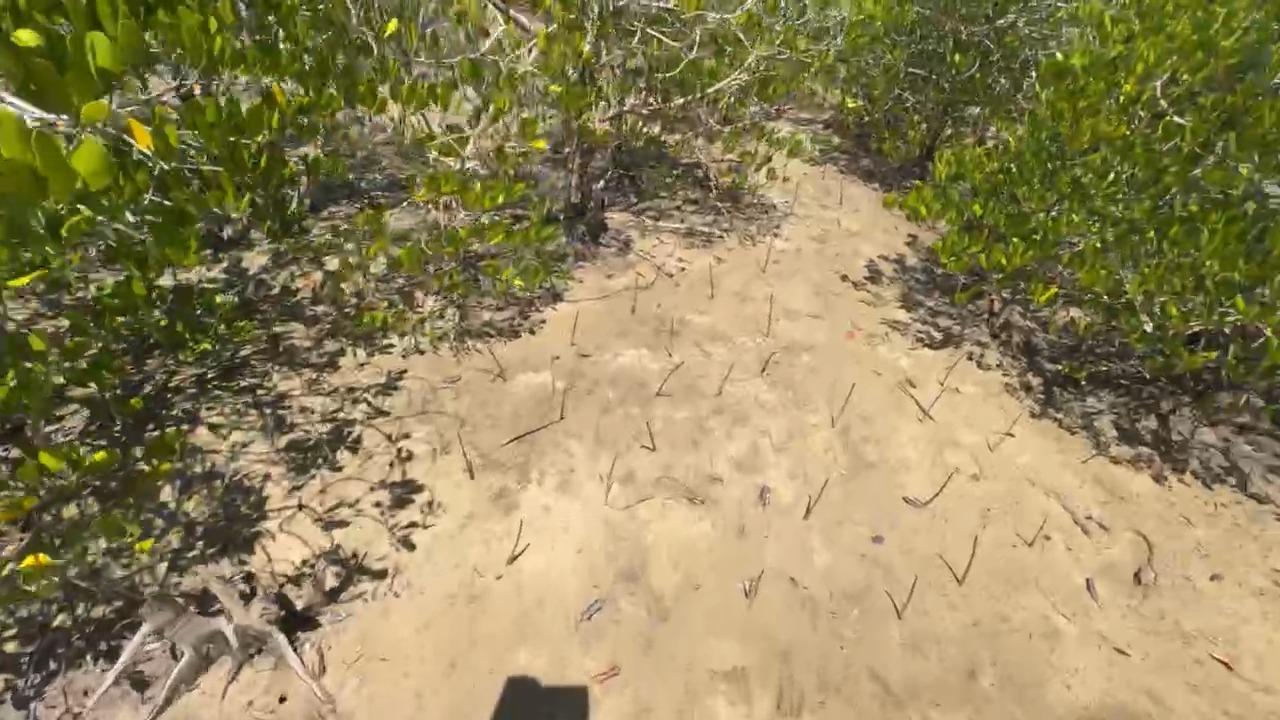Tree: (832, 382, 857, 428), (654, 361, 684, 397), (924, 471, 955, 505), (958, 536, 978, 586), (941, 352, 968, 386), (457, 431, 475, 481), (505, 518, 522, 568), (899, 575, 918, 617), (487, 345, 508, 382), (809, 478, 829, 511), (604, 456, 617, 506), (716, 362, 734, 397), (1028, 517, 1047, 547), (926, 387, 947, 413), (765, 292, 774, 338), (760, 352, 778, 375), (762, 240, 773, 274), (570, 310, 580, 346), (631, 276, 639, 316), (646, 420, 656, 451), (1007, 413, 1023, 432), (560, 383, 568, 420), (790, 179, 800, 206), (709, 260, 715, 299), (669, 317, 674, 354), (839, 176, 844, 205)
